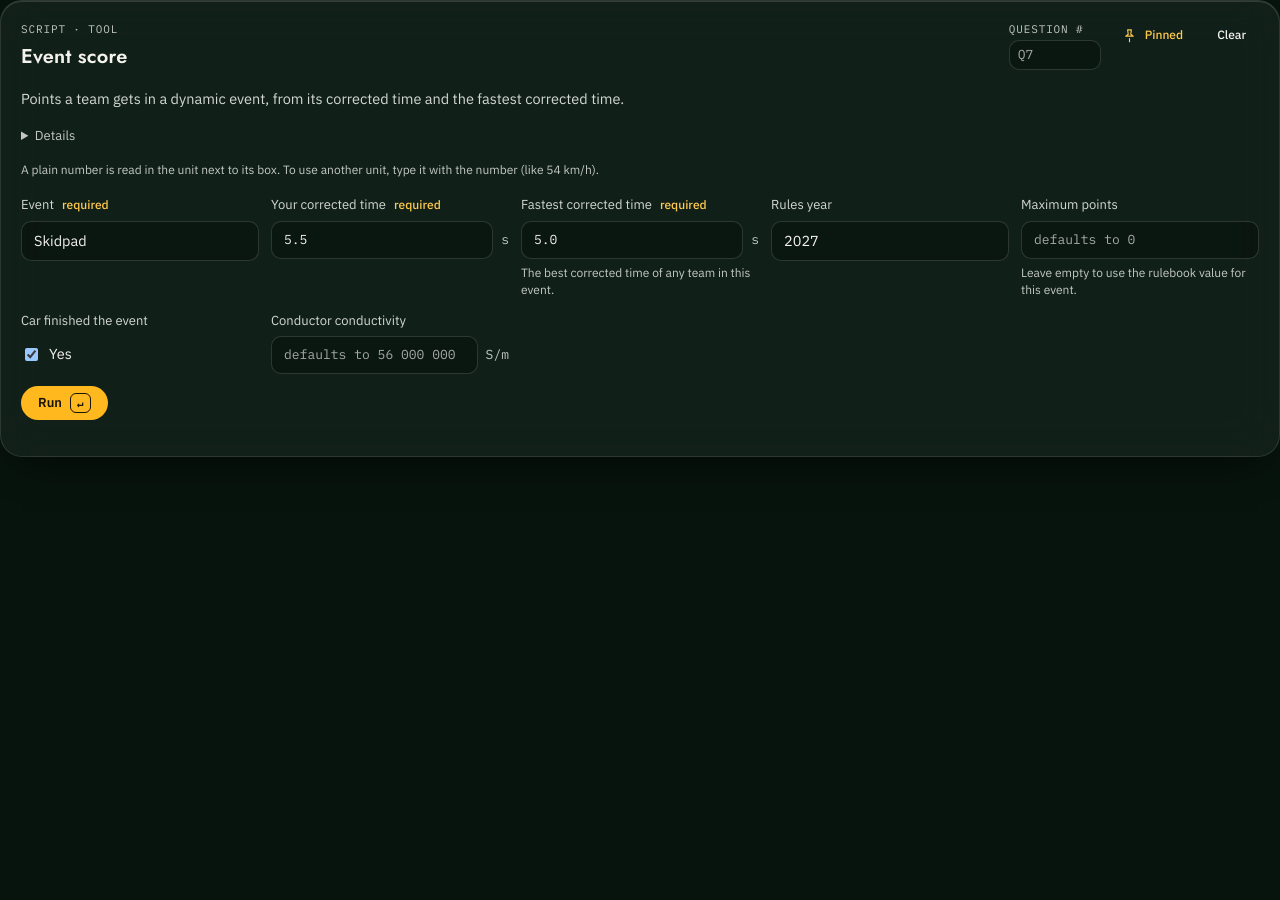
Test case: rule years › never shows replies of an earlier run once a newer one is on screen
Replace the text in the field labelled "Your corrected time required s" with "11" at (382, 240), box [271,221,493,259]
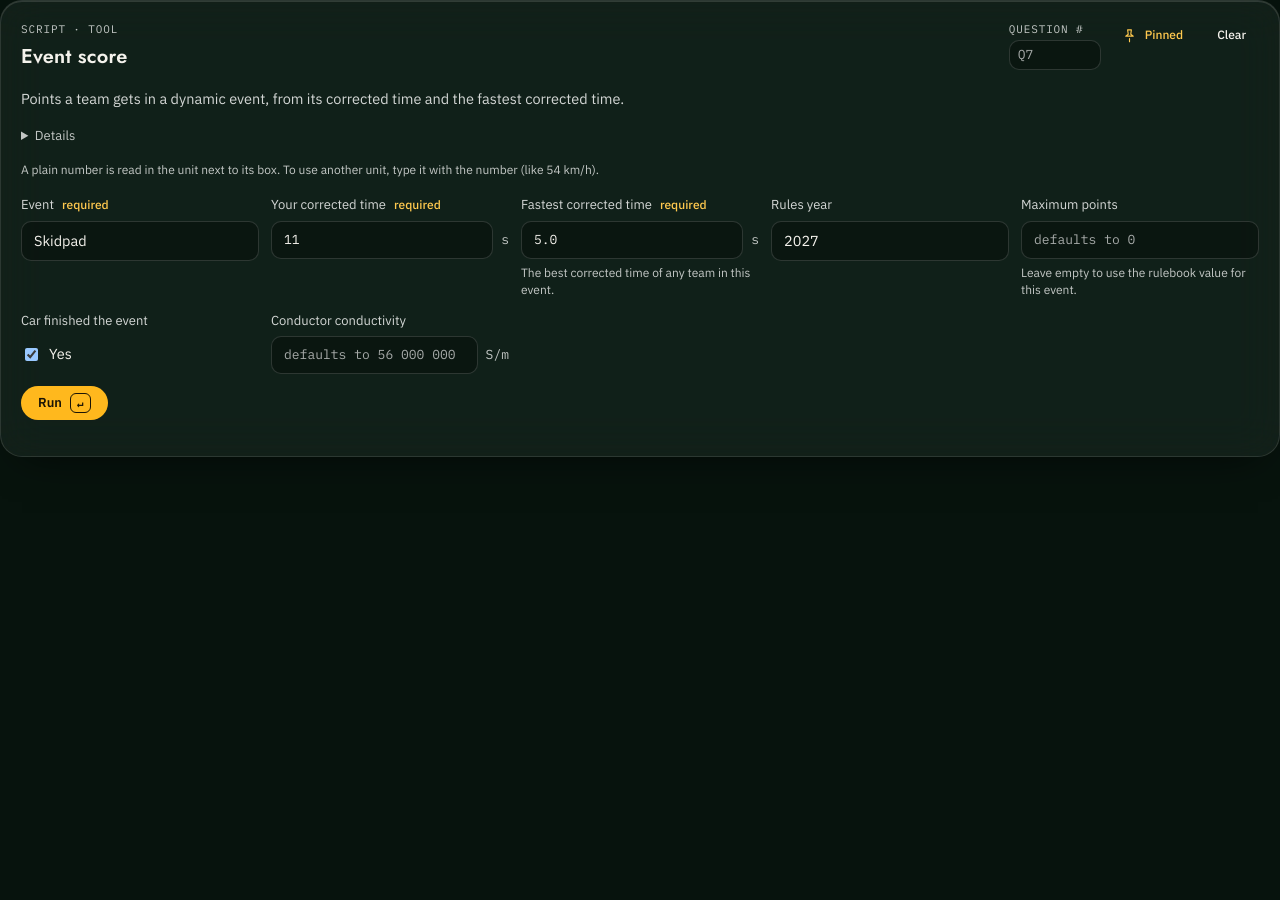
Click the button "Run ↵" at (64, 403), box [21,386,108,420]
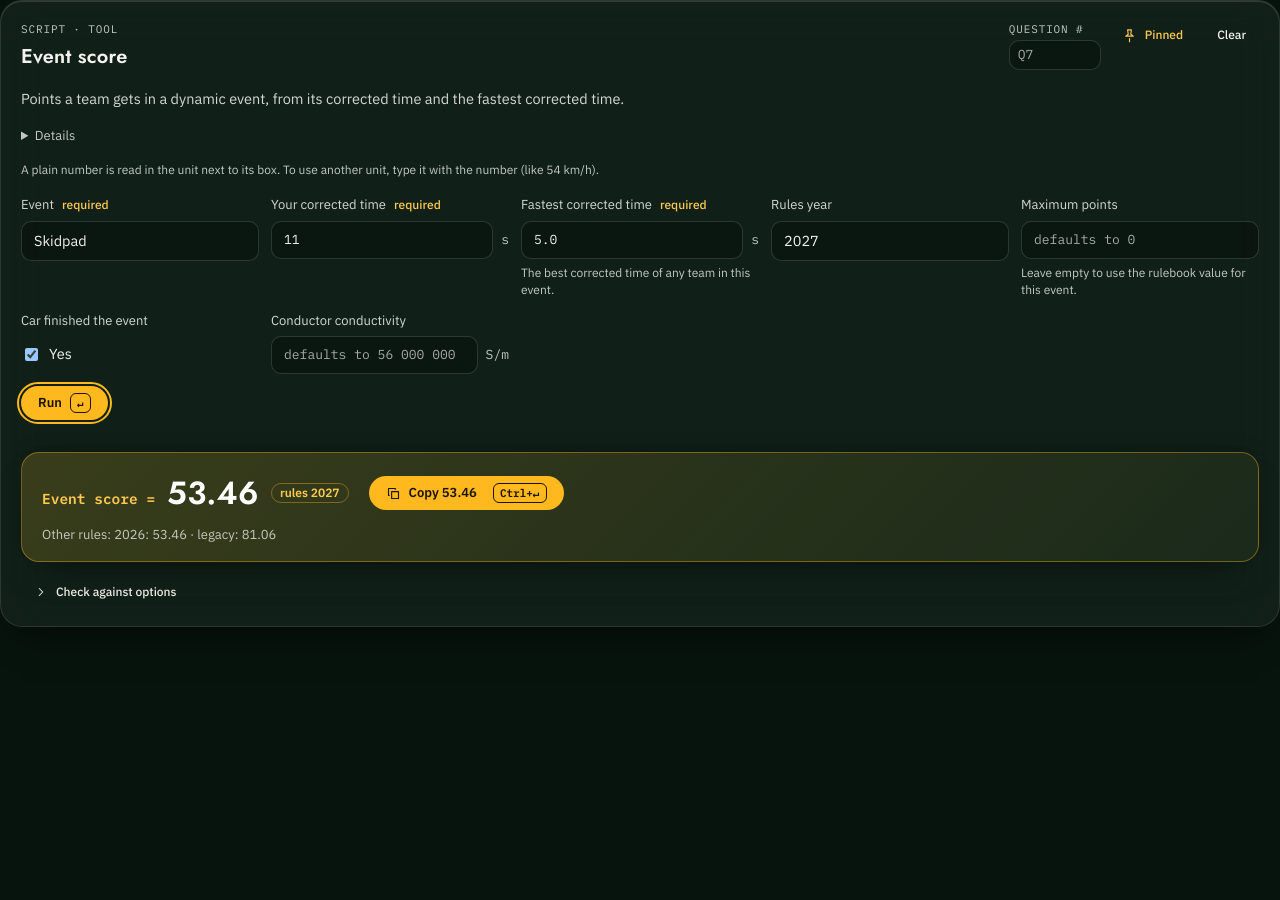
expect the text with class "a-years" reads "Other rules: 2026: 53.46 · legacy: 81.06": met, box [42,526,276,543]
